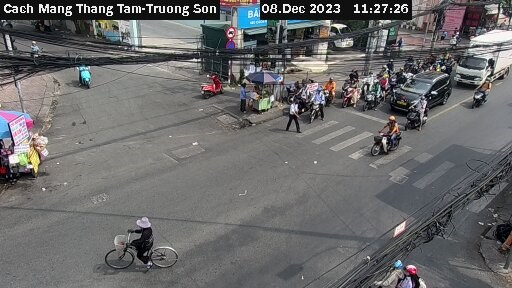car: (393, 62, 452, 118)
motorbike: (369, 119, 420, 165), (400, 103, 440, 131), (467, 84, 499, 111), (307, 94, 335, 119), (76, 65, 103, 86), (363, 84, 382, 109), (323, 78, 340, 104), (343, 79, 358, 104)
truck: (455, 30, 512, 84)
